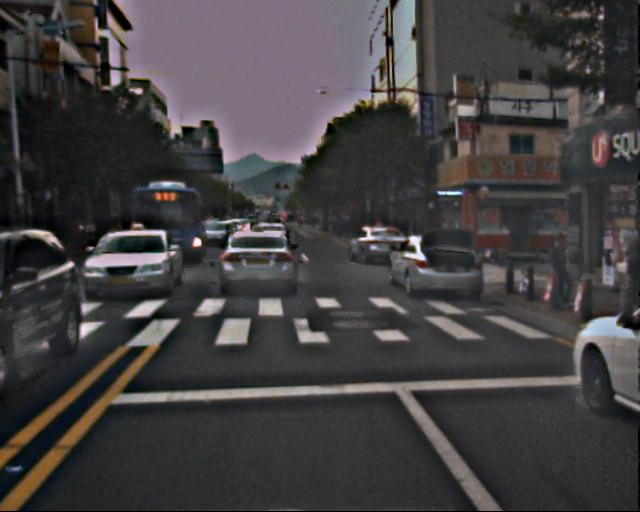person: (546, 231, 577, 305)
